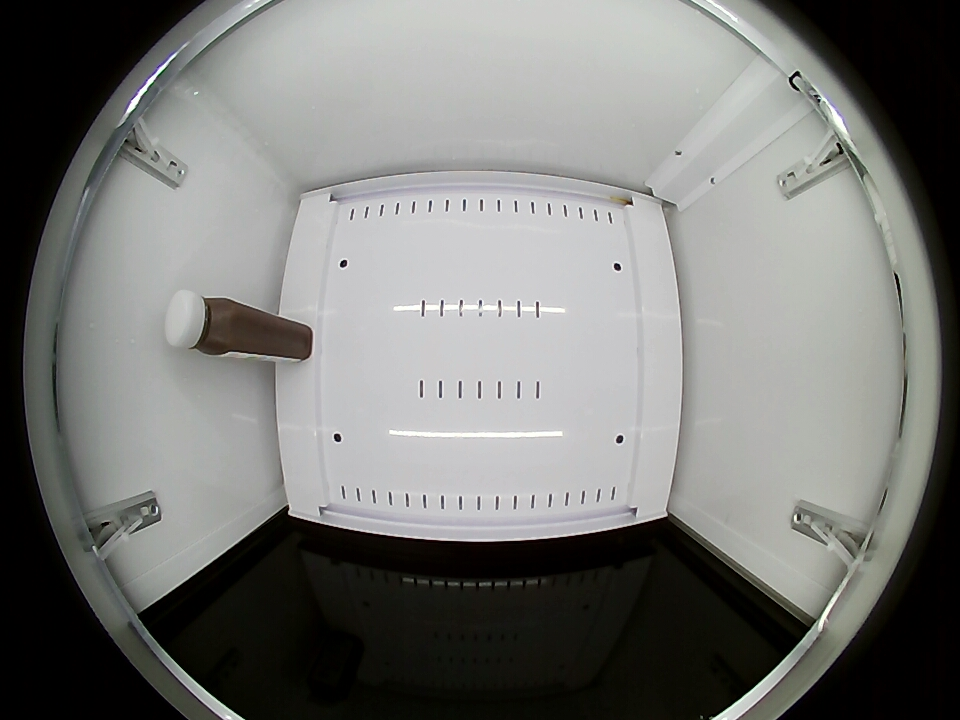youyanggudong: (165, 291, 239, 356)
